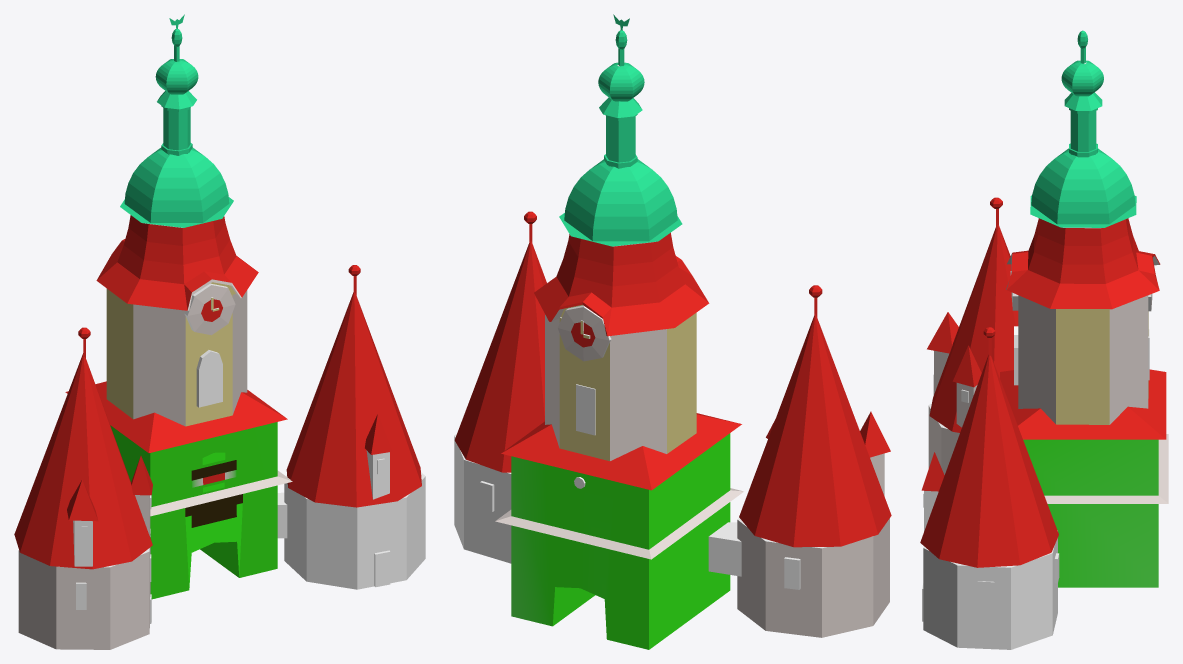
The model's file is building_final.fbx.
The picture shows the model from 3 angles, left to right: view 1: azimuth 30°, elevation 25°; view 2: azimuth 150°, elevation 25°; view 3: azimuth 270°, elevation 25°; orthographic projection. The views are drawn at different scales.
Parts seen in each view (by area): view 1: Cylinder.001; view 2: Cylinder.001; view 3: Cylinder.001.
Boxes of the visible parts, x1,y1,x2,y2 form: Cylinder.001: (14,14,425,649); Cylinder.001: (454,14,891,649); Cylinder.001: (920,30,1168,649).
Bounding box in the file's own units: 1211 × 1619 × 676.
